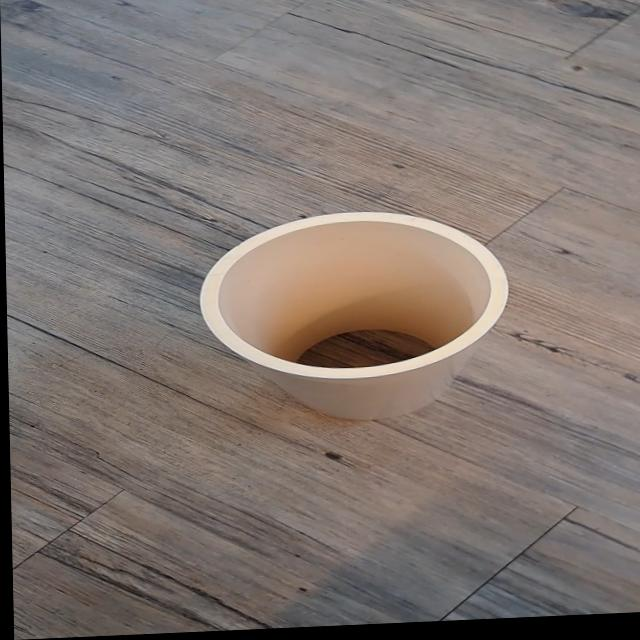CORAL: (142, 182, 549, 453)
